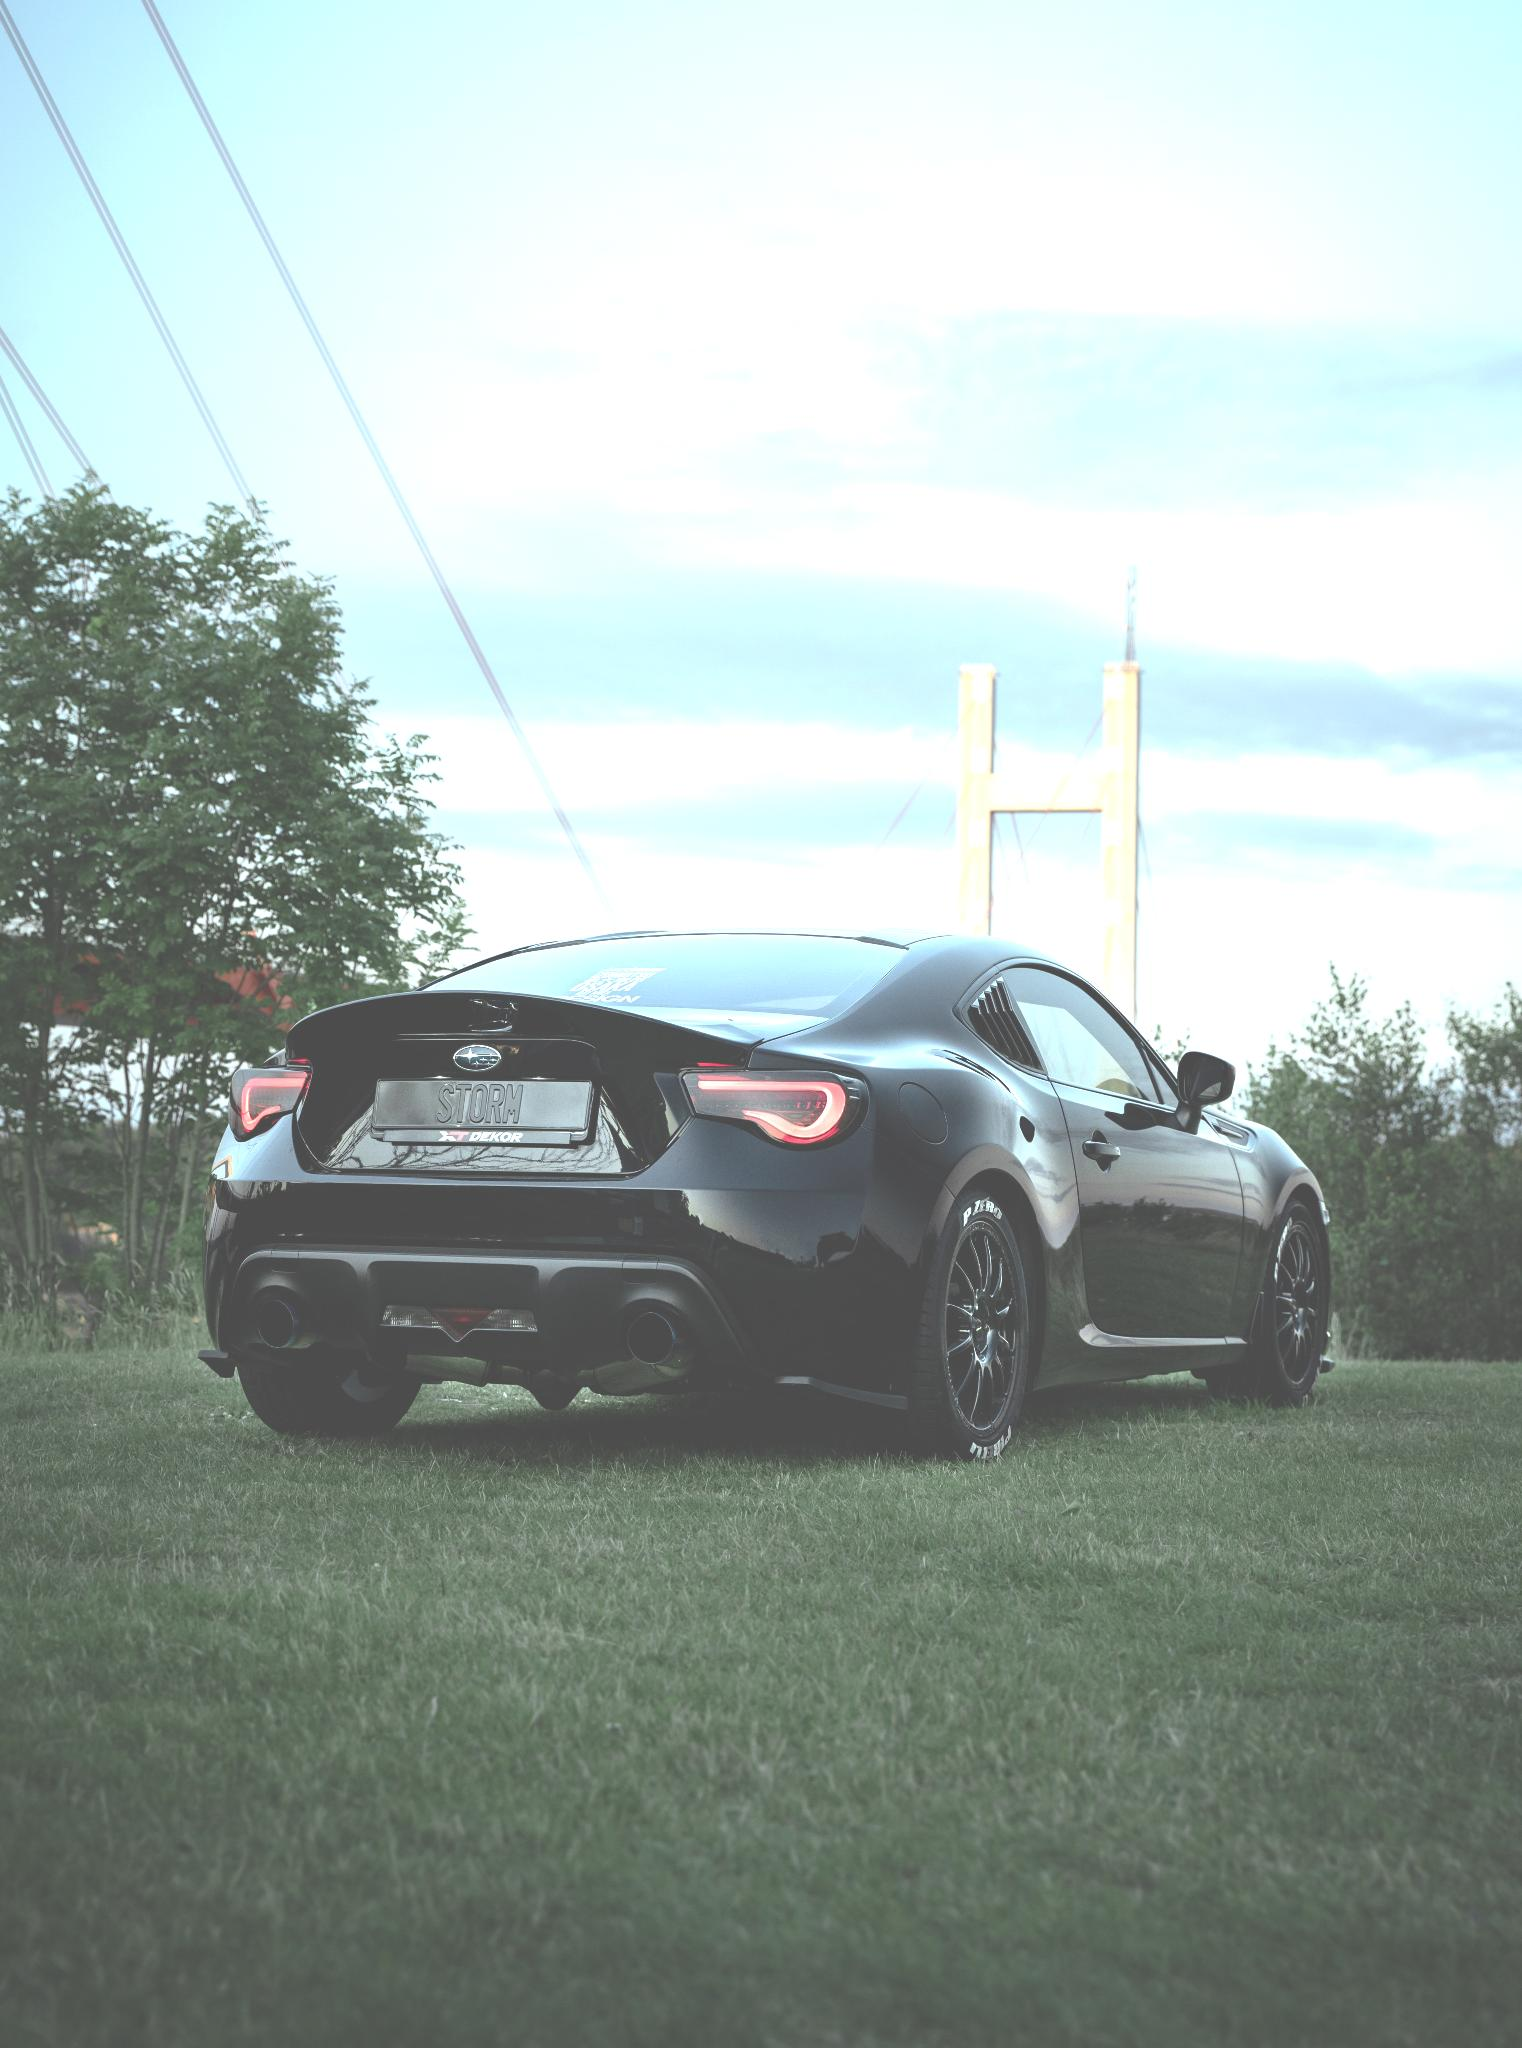subaru: (427, 1018, 520, 1097)
